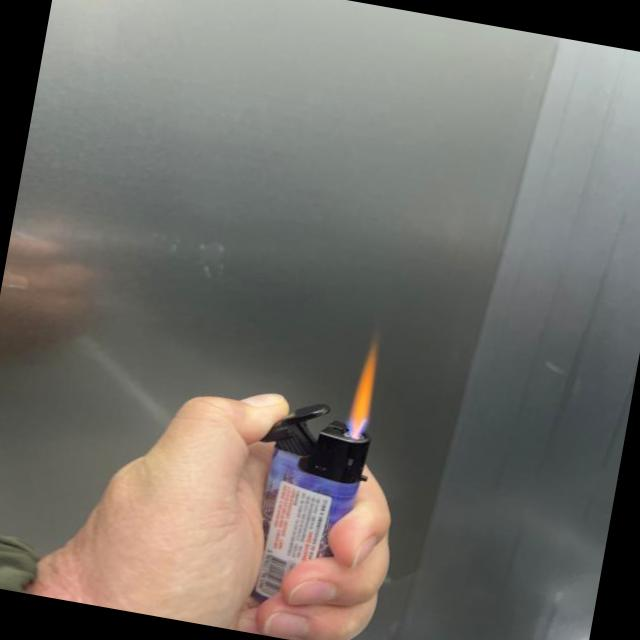fire: (342, 336, 384, 436)
